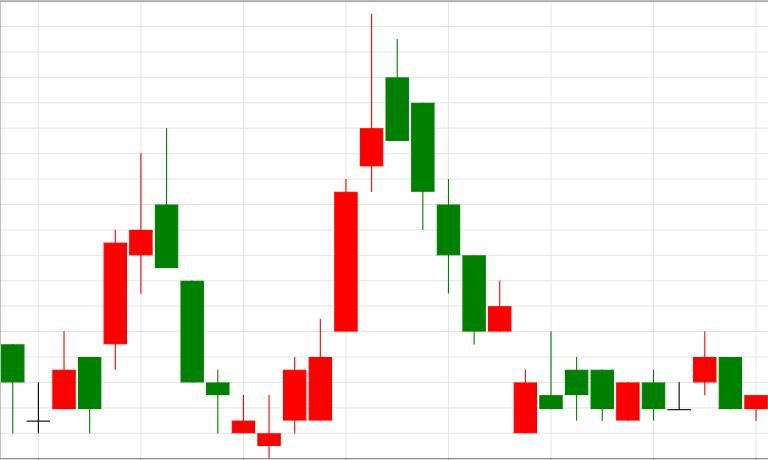shooting_star_fall: (256, 14, 384, 457)
